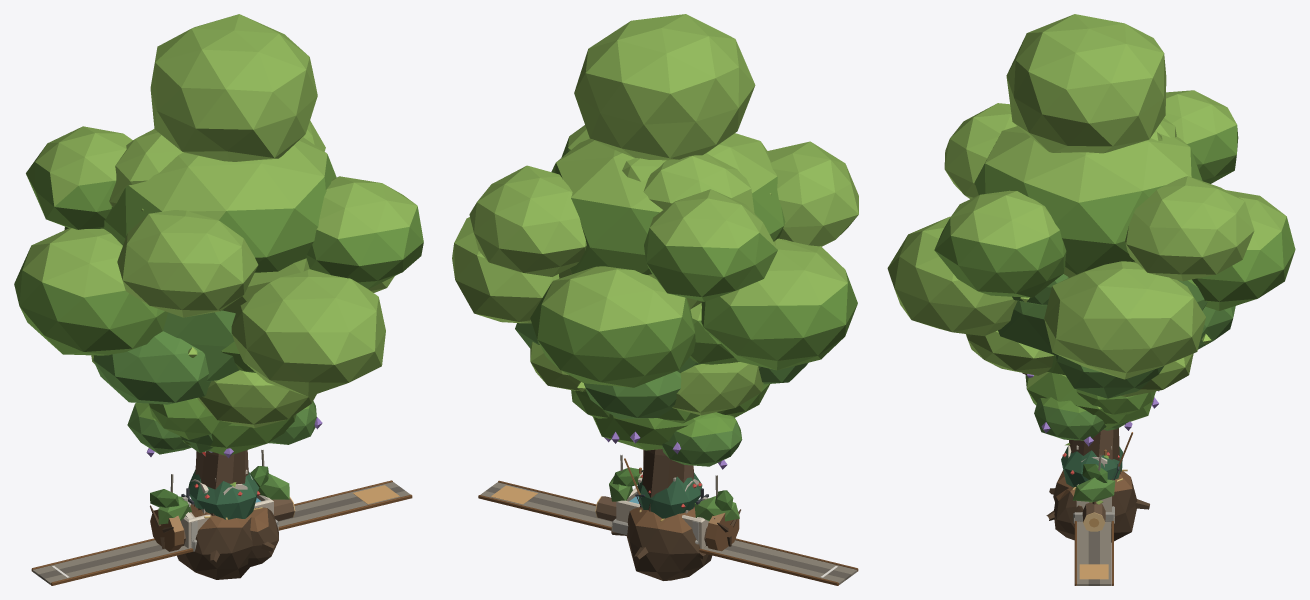
File: foret013.glb
3 views of the same model, side by side, from view 1: azimuth 30°, elevation 25°; view 2: azimuth 150°, elevation 25°; view 3: azimuth 270°, elevation 25° (orthographic). The views are drawn at different scales.
Visible parts, largest first — view 1: tree_old_oak, tree_chestnut, tree_beech, skittles_alley, manure_heap, tree_plum, holly_bush, tree_cherry, vine_row, fallen_trunk, water_trough; view 2: tree_old_oak, tree_beech, skittles_alley, tree_plum, manure_heap, tree_chestnut, vine_row, holly_bush, fallen_trunk, tree_cherry, tree_walnut, water_trough; view 3: tree_old_oak, tree_chestnut, tree_plum, tree_beech, manure_heap, skittles_alley, holly_bush, tree_cherry, vine_row, fallen_trunk.
Boxes of the visible parts, x1,y1,x2,y2 form: tree_old_oak: (14, 14, 423, 562); tree_chestnut: (93, 310, 239, 404); tree_beech: (91, 129, 316, 427); skittles_alley: (31, 480, 412, 585); manure_heap: (177, 504, 278, 579); tree_plum: (127, 401, 316, 455); holly_bush: (188, 469, 260, 519); tree_cherry: (148, 398, 231, 439); vine_row: (150, 450, 289, 524); fallen_trunk: (150, 497, 295, 551); water_trough: (180, 495, 273, 548); tree_old_oak: (452, 14, 858, 560); tree_beech: (530, 153, 771, 415); skittles_alley: (478, 480, 858, 585); tree_plum: (592, 412, 742, 466); manure_heap: (624, 458, 712, 580); tree_chestnut: (515, 323, 808, 418); vine_row: (609, 455, 739, 521); holly_bush: (637, 472, 702, 518); fallen_trunk: (595, 496, 740, 551); tree_cherry: (571, 384, 769, 423); tree_walnut: (690, 303, 739, 364); water_trough: (616, 487, 708, 548); tree_old_oak: (887, 14, 1295, 527); tree_chestnut: (998, 274, 1235, 398); tree_plum: (1025, 372, 1155, 440); tree_beech: (966, 118, 1193, 396); manure_heap: (1053, 432, 1137, 542); skittles_alley: (1074, 521, 1113, 585); holly_bush: (1061, 446, 1122, 487); tree_cherry: (1047, 355, 1155, 414); vine_row: (1073, 454, 1115, 504); fallen_trunk: (1082, 500, 1105, 531).
Size of the model in its own units: 8.02 by 11.02 by 7.84.
Materials: 1 (1 with a texture image).
